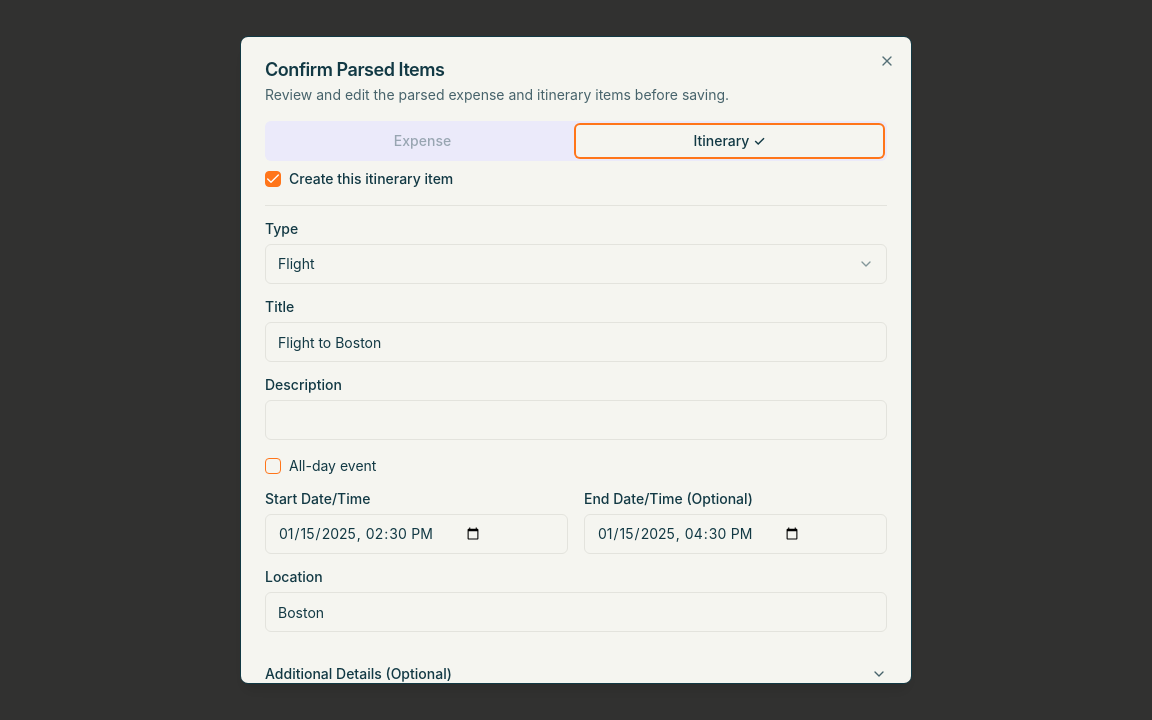
Test case: ParsedItemModal - Itinerary Metadata › Links Management › adds new link when both title and URL provided
The width and height of the screenshot is (1152, 720).
Step 1. Click the button "Additional Details (Optional)" → (358, 674), box [265,648,887,700]
(page scrolled)
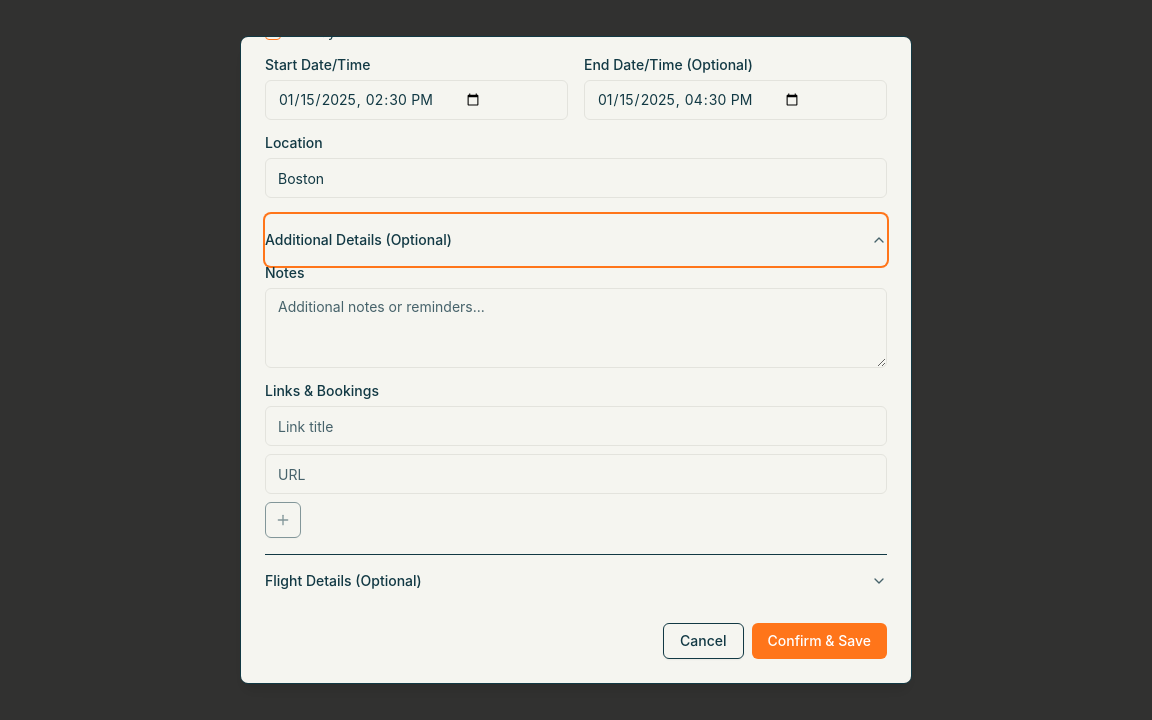
Step 2. Type "Ticket" into the field with placeholder "Link title" → (576, 426), box [265,406,887,446]
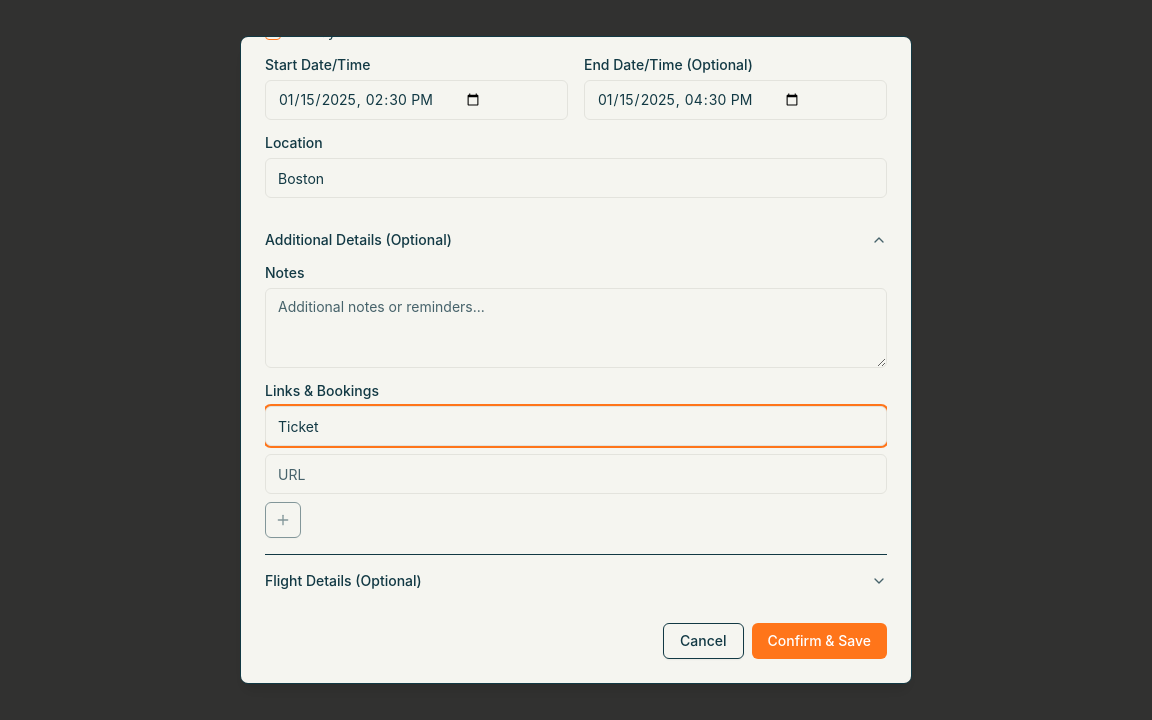
Step 3. Type "https://example.com/ticket" into the field with placeholder "URL" → (576, 474), box [265,454,887,494]
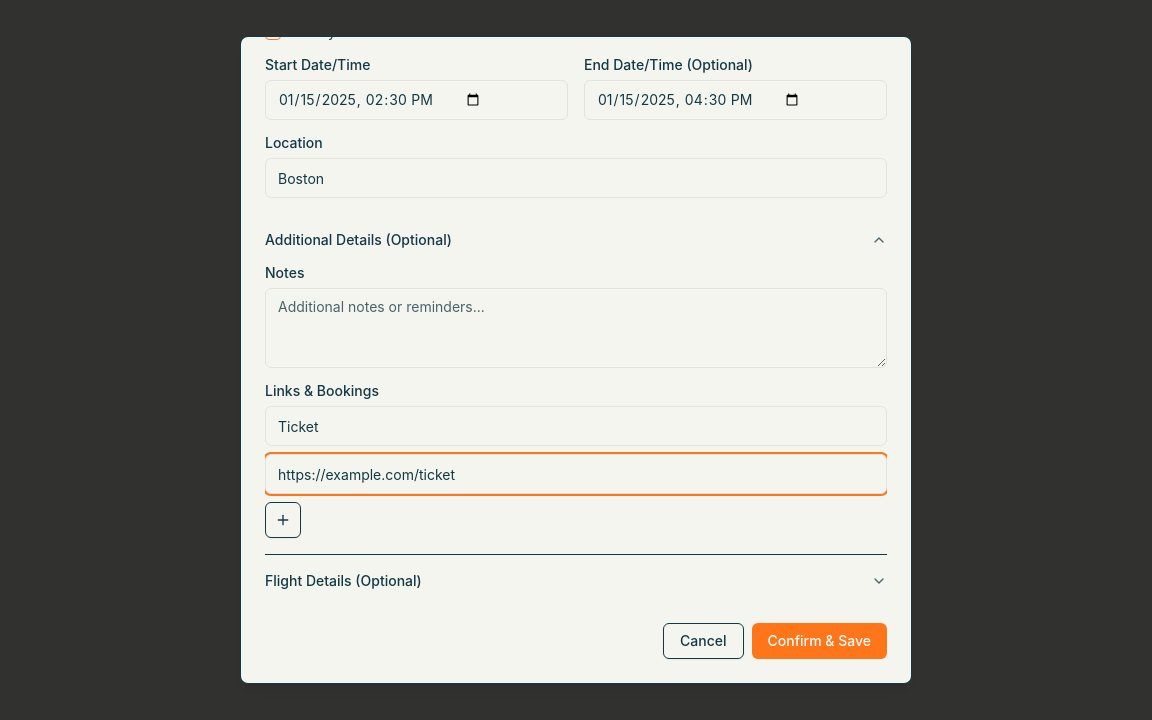
Step 4. Click the button named "add link" → (283, 520), box [265,502,301,538]
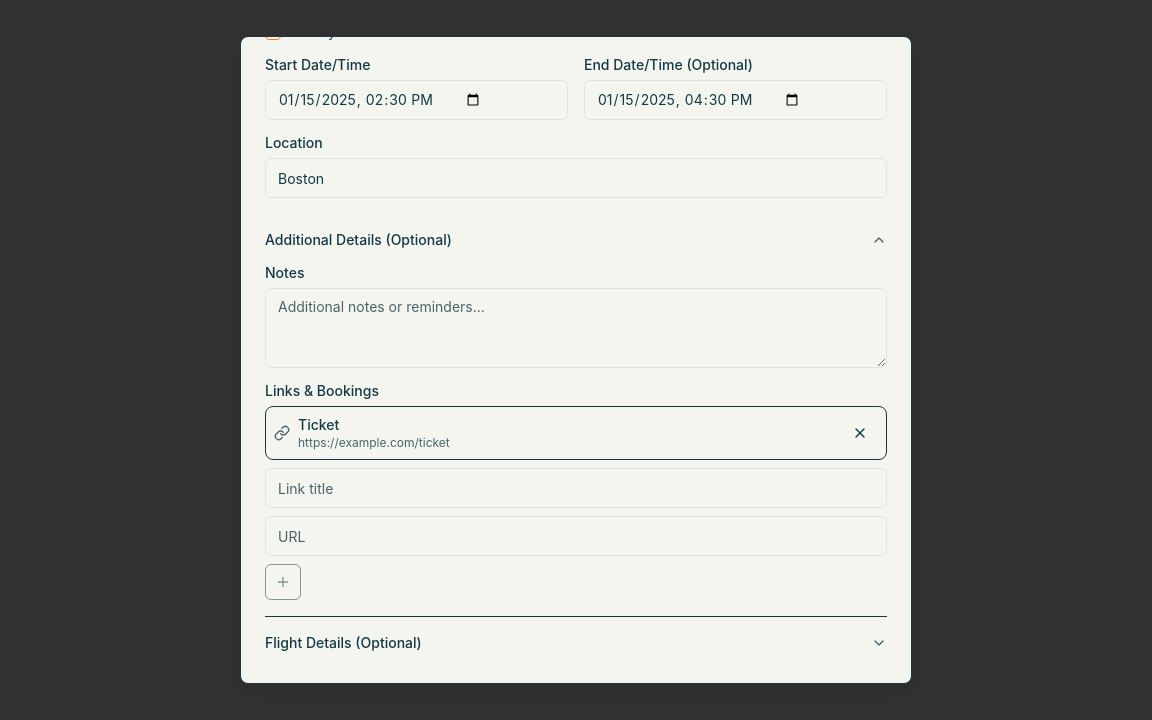
Expected: the text "Ticket" is shown, [298,416,339,433]
Expected: the text "https://example.com/ticket" is shown, [298,435,450,450]
